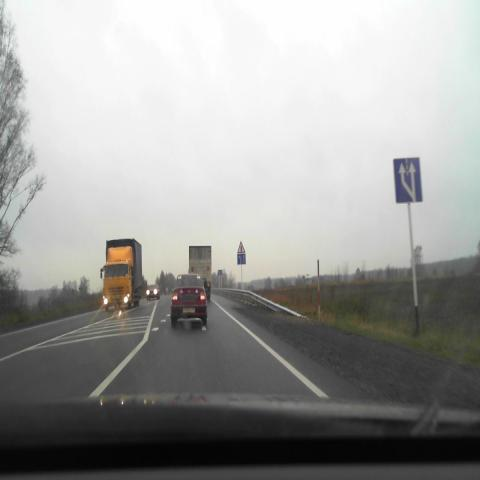2_3_2: (238, 241, 246, 252)
5_15_2_2: (237, 253, 246, 265)
5_15_3: (392, 158, 422, 204)
